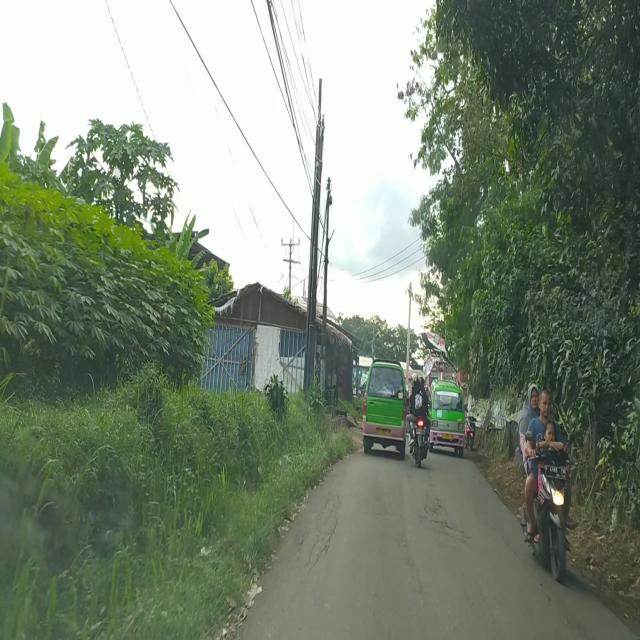Drain Hole: (292, 488, 347, 590), (420, 488, 465, 543)
